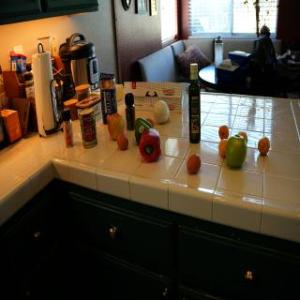bell_pepper: (138, 130, 162, 164), (132, 119, 152, 145)
egg: (186, 153, 202, 175), (114, 136, 130, 148), (146, 116, 154, 128)
onion: (151, 100, 171, 124)
